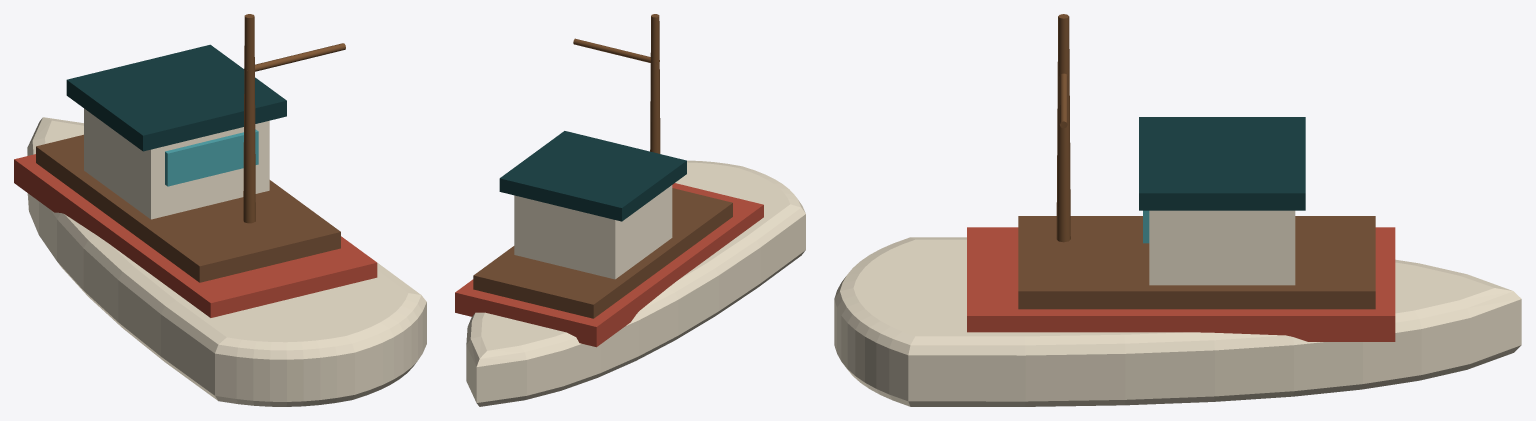
Rendered from boat.glb.
3 views of the same model, side by side, from view 1: azimuth 30°, elevation 25°; view 2: azimuth 150°, elevation 25°; view 3: azimuth 270°, elevation 25° (orthographic). The views are drawn at different scales.
Parts seen in each view (by area): view 1: Crimson fishing boat; view 2: Crimson fishing boat; view 3: Crimson fishing boat.
Boxes of the visible parts, x1,y1,x2,y2 form: Crimson fishing boat: (14, 14, 426, 406); Crimson fishing boat: (455, 14, 805, 406); Crimson fishing boat: (834, 14, 1521, 406).
Size of the model in its own units: 1.48 by 2.08 by 3.81.
